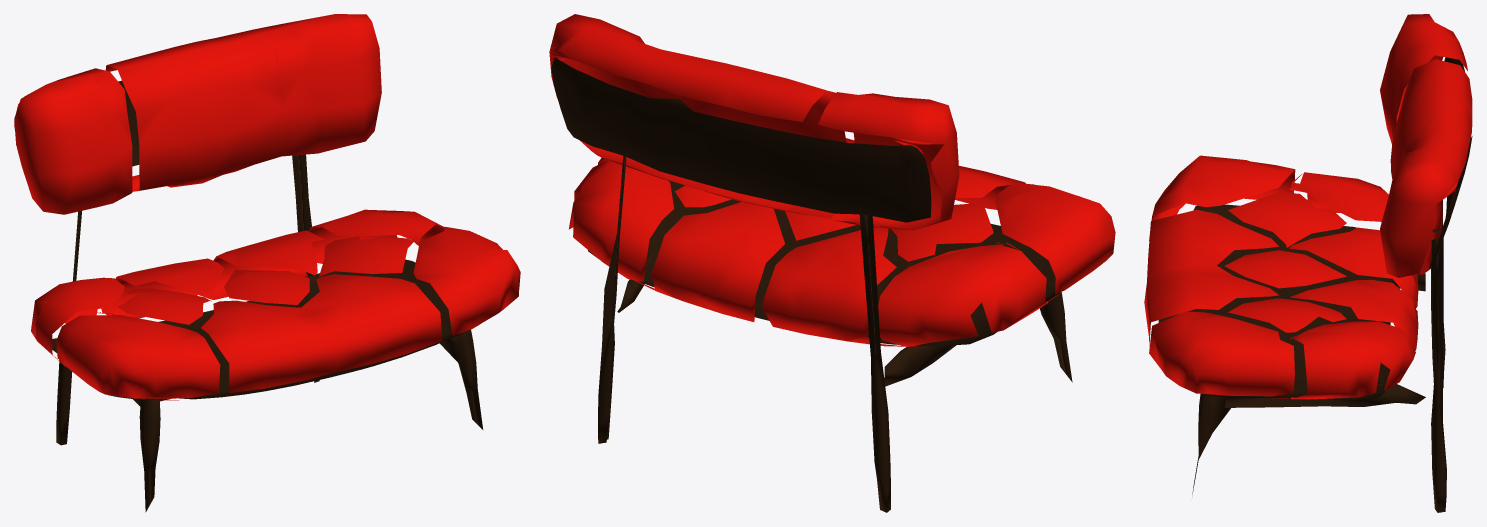
File: SheenChair_LOD2.obj
3 renders of one model, left to right at view 1: azimuth 30°, elevation 25°; view 2: azimuth 150°, elevation 25°; view 3: azimuth 270°, elevation 25°, orthographic. The views are drawn at different scales.
Visible parts, largest first — view 1: SheenChair_m0, SheenChair_m1; view 2: SheenChair_m0, SheenChair_m1; view 3: SheenChair_m0, SheenChair_m1.
Boxes of the visible parts, x1,y1,x2,y2 form: SheenChair_m0: [14, 14, 520, 400]; SheenChair_m1: [52, 80, 483, 512]; SheenChair_m0: [549, 14, 1115, 347]; SheenChair_m1: [551, 58, 1072, 512]; SheenChair_m0: [1144, 14, 1472, 399]; SheenChair_m1: [1158, 57, 1472, 512].
Bounding box in the file's own units: 0.8164 × 0.6723 × 0.5571.
